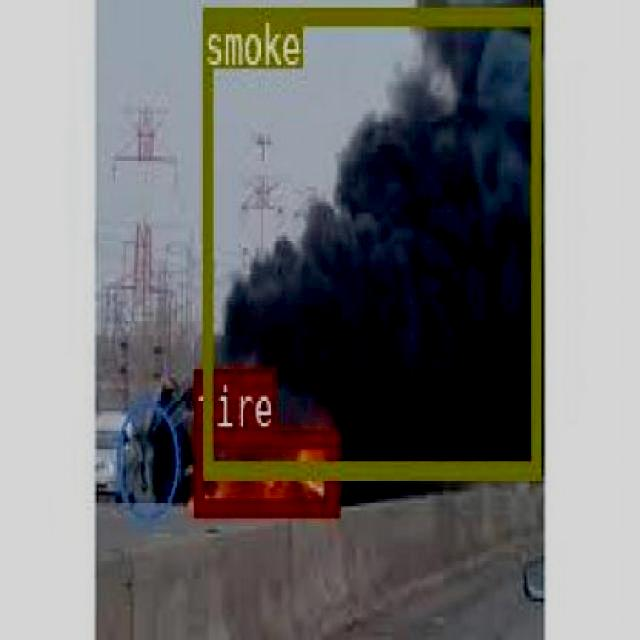fire: (192, 428, 336, 514)
smoke: (200, 7, 540, 473)
